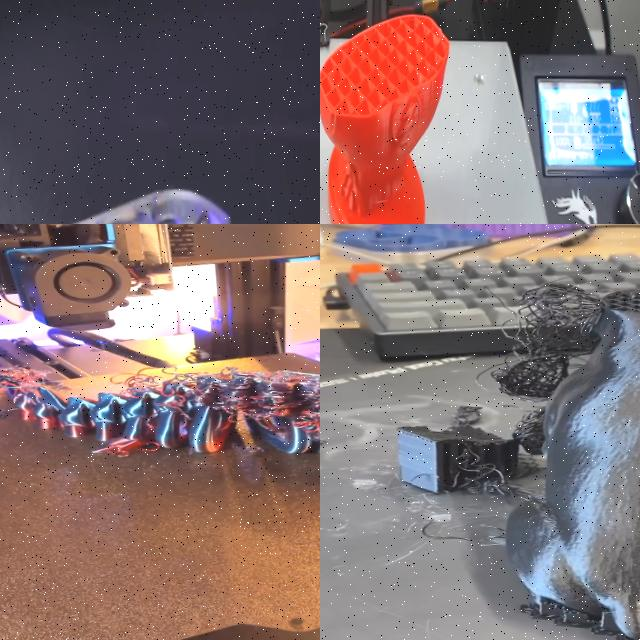spaghetti: (438, 270, 608, 510), (152, 363, 320, 448), (0, 339, 62, 398)
